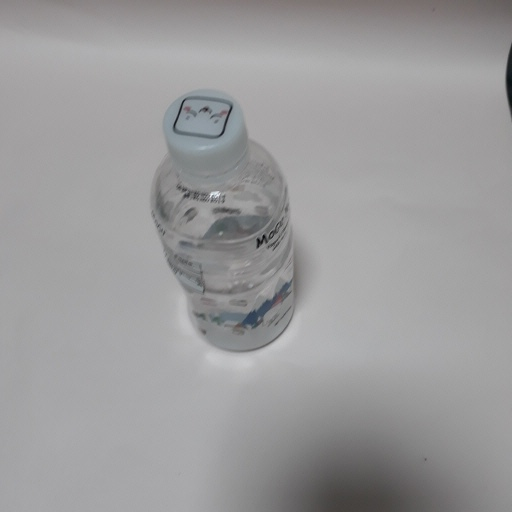Plastic_0: (146, 89, 301, 355)
